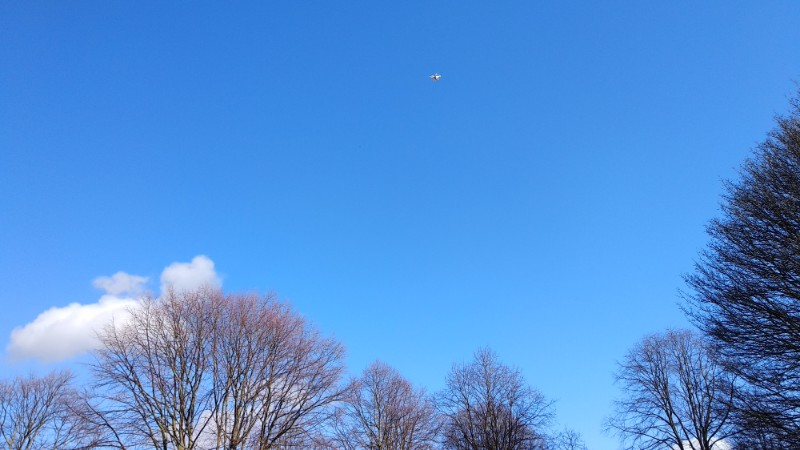drone: (427, 70, 443, 82)
